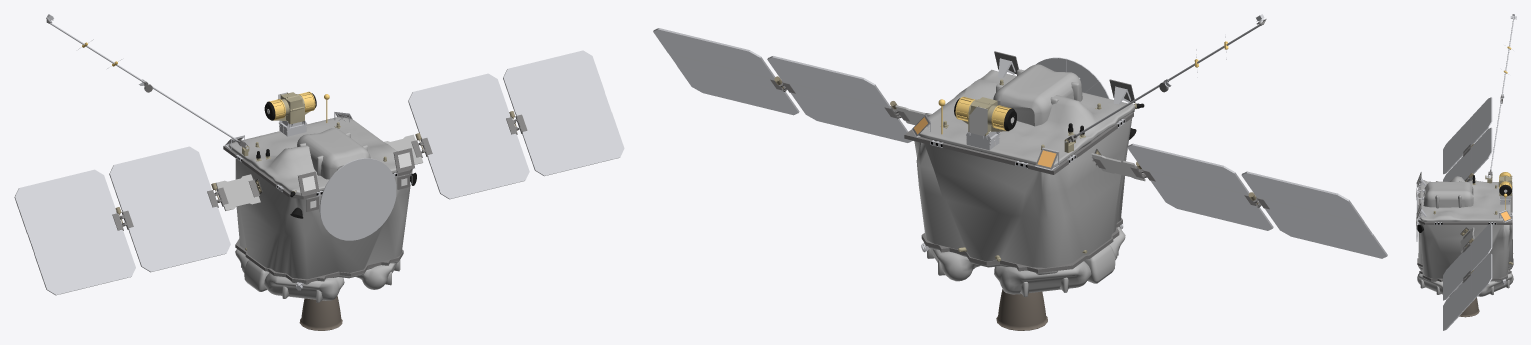
Rendered from sc_escapade.glb.
3 renders of one model, left to right at view 1: azimuth 30°, elevation 25°; view 2: azimuth 150°, elevation 25°; view 3: azimuth 270°, elevation 25°, orthographic. The views are drawn at different scales.
Visible parts, largest first — view 1: ESCAPADE_CAD.081, ESCAPADE_CAD.053, ESCAPADE_CAD.058, ESCAPADE_CAD.052, ESCAPADE_CAD.079, ESCAPADE_CAD.080, ESCAPADE_CAD.084, thruster, Plane.028, ESCAPADE_CAD.024, ESCAPADE_CAD.076, ESCAPADE_CAD.013; view 2: ESCAPADE_CAD.058, ESCAPADE_CAD.081, ESCAPADE_CAD.053, ESCAPADE_CAD.079, thruster, ESCAPADE_CAD.013, ESCAPADE_CAD.024, ESCAPADE_CAD.052, ESCAPADE_CAD.076, ESCAPADE_CAD.080, ESCAPADE_CAD.084, ESCAPADE_CAD.027 (+1 smaller); view 3: ESCAPADE_CAD.058, ESCAPADE_CAD.053, ESCAPADE_CAD.081, ESCAPADE_CAD.079, ESCAPADE_CAD.076, ESCAPADE_CAD.013, ESCAPADE_CAD.080, thruster, ESCAPADE_CAD.024, ESCAPADE_CAD.084, ESCAPADE_CAD.061, Plane.028 (+2 smaller).
Part boxes in pixels (<box>): ESCAPADE_CAD.081: <box>14,146,230,295</box>; ESCAPADE_CAD.053: <box>408,50,624,199</box>; ESCAPADE_CAD.058: <box>229,117,412,302</box>; ESCAPADE_CAD.052: <box>319,158,396,240</box>; ESCAPADE_CAD.079: <box>264,91,316,136</box>; ESCAPADE_CAD.080: <box>112,111,527,230</box>; ESCAPADE_CAD.084: <box>216,134,423,210</box>; thruster: <box>299,296,342,330</box>; Plane.028: <box>298,148,414,211</box>; ESCAPADE_CAD.024: <box>235,239,403,283</box>; ESCAPADE_CAD.076: <box>46,14,249,156</box>; ESCAPADE_CAD.013: <box>223,145,412,199</box>; ESCAPADE_CAD.058: <box>914,64,1134,296</box>; ESCAPADE_CAD.081: <box>1127,143,1387,258</box>; ESCAPADE_CAD.053: <box>653,28,912,142</box>; ESCAPADE_CAD.079: <box>954,96,1016,150</box>; thruster: <box>996,289,1047,330</box>; ESCAPADE_CAD.013: <box>904,112,1133,174</box>; ESCAPADE_CAD.024: <box>921,217,1122,272</box>; ESCAPADE_CAD.052: <box>1036,57,1109,98</box>; ESCAPADE_CAD.076: <box>1064,14,1266,152</box>; ESCAPADE_CAD.080: <box>770,76,1269,209</box>; ESCAPADE_CAD.084: <box>895,105,1145,181</box>; ESCAPADE_CAD.027: <box>911,114,1059,170</box>; ESCAPADE_CAD.058: <box>1417,176,1513,296</box>; ESCAPADE_CAD.053: <box>1443,223,1492,330</box>; ESCAPADE_CAD.081: <box>1443,97,1492,181</box>; ESCAPADE_CAD.079: <box>1498,172,1512,204</box>; ESCAPADE_CAD.076: <box>1485,14,1516,183</box>; ESCAPADE_CAD.013: <box>1418,186,1512,224</box>; ESCAPADE_CAD.080: <box>1460,144,1473,282</box>; thruster: <box>1459,297,1479,317</box>; ESCAPADE_CAD.024: <box>1417,258,1513,282</box>; ESCAPADE_CAD.084: <box>1460,176,1474,252</box>; ESCAPADE_CAD.061: <box>1416,178,1426,228</box>; Plane.028: <box>1416,172,1421,229</box>.
Bounding box in the file's own units: 1.95 × 1.09 × 0.4486.
18 materials, 3 textured.
